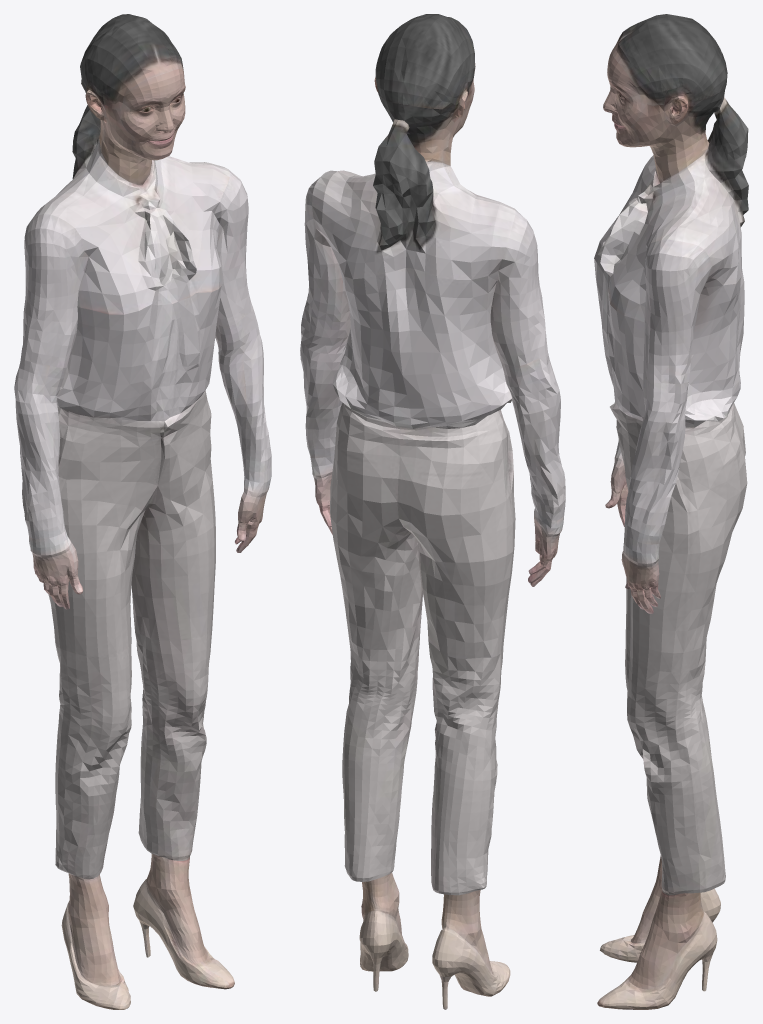
Rendered from claudia.glb.
3 views of the same model, side by side, from view 1: azimuth 30°, elevation 25°; view 2: azimuth 150°, elevation 25°; view 3: azimuth 270°, elevation 25° (orthographic).
Parts seen in each view (by area): view 1: claudia; view 2: claudia; view 3: claudia.
Boxes of the visible parts, x1=… form: claudia: x1=14, y1=14, x2=271, y2=1009; claudia: x1=300, y1=14, x2=565, y2=1009; claudia: x1=594, y1=14, x2=748, y2=1009.
Bounding box in the file's own units: 0.4982 × 1.84 × 0.2685.
Materials: 1 (1 with a texture image).
